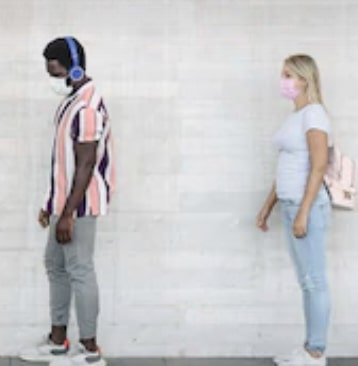Caution: (17, 36, 331, 364)
